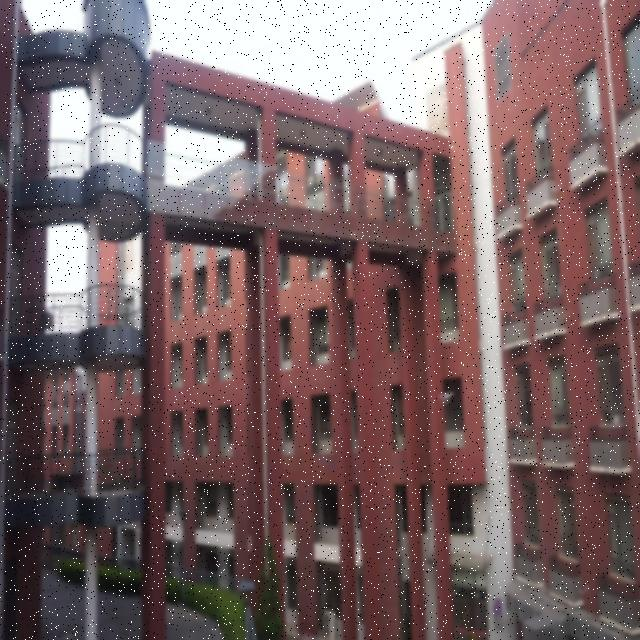UAV: (437, 392, 454, 404)
